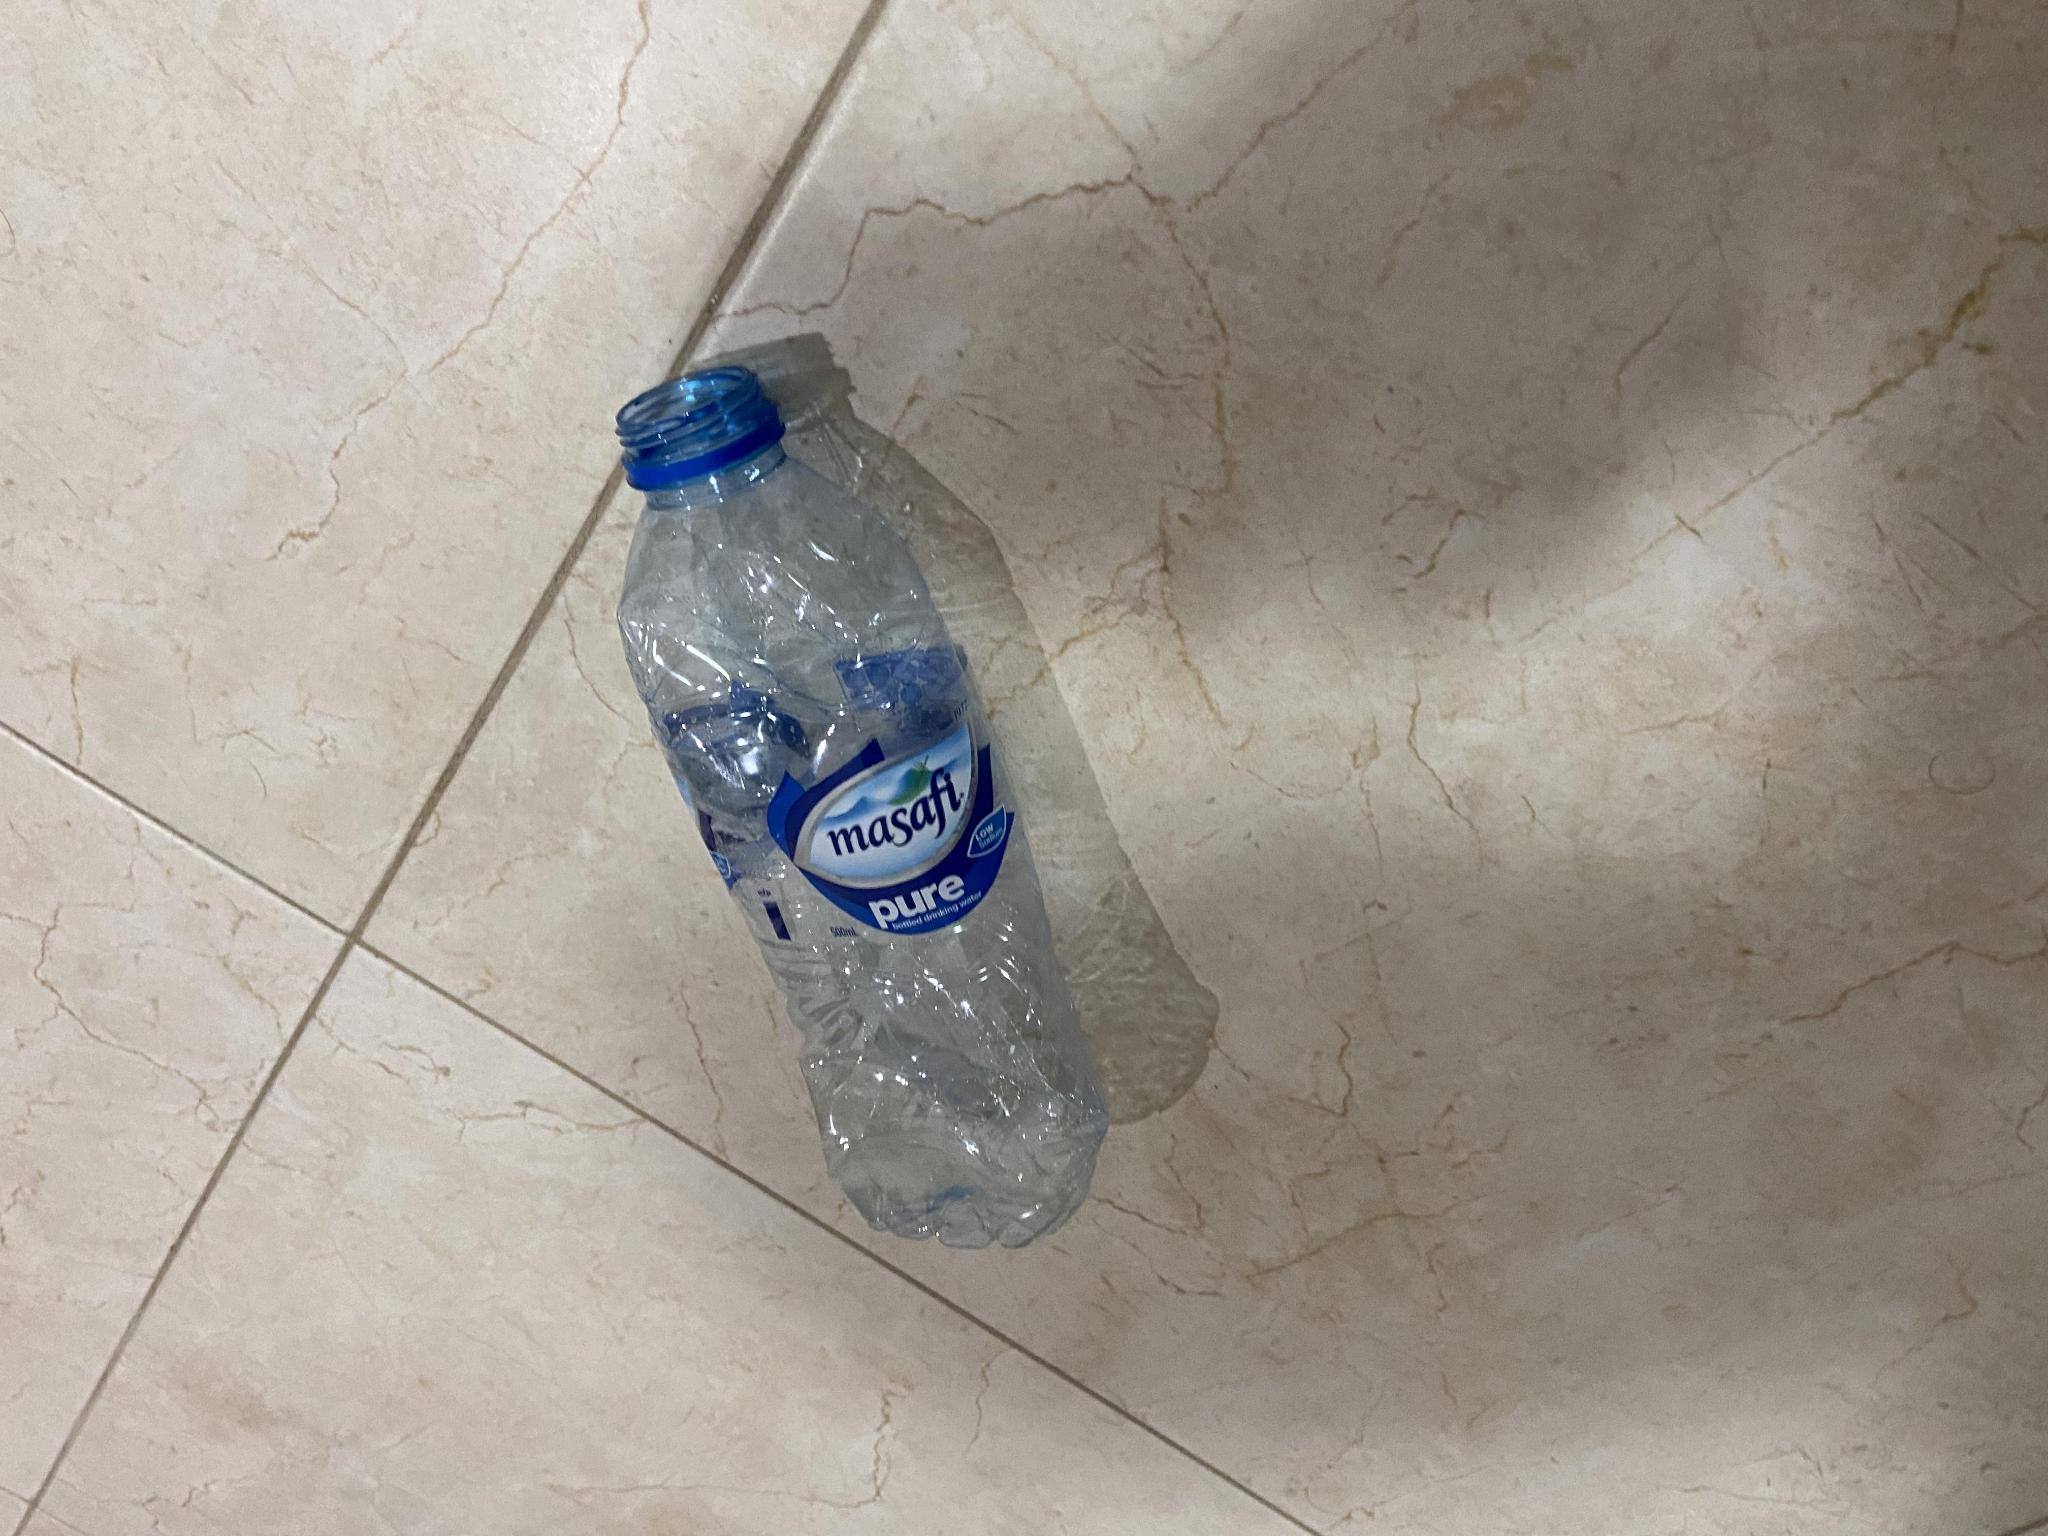bottle: (582, 347, 1118, 1252)
